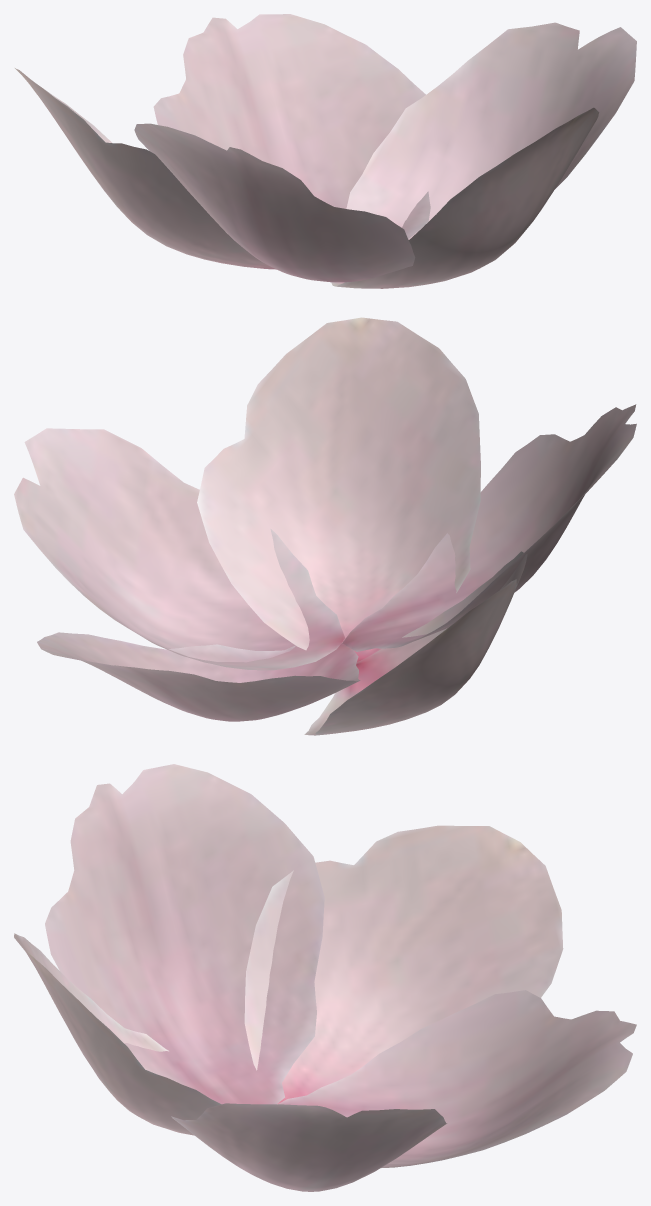
File: cherry.glb
3 renders of one model, top to bottom at view 1: azimuth 30°, elevation 25°; view 2: azimuth 150°, elevation 25°; view 3: azimuth 270°, elevation 25°, orthographic. The views are drawn at different scales.
Visible parts, largest first — view 1: petal01, petal02, petal03; view 2: petal03, petal02, petal01; view 3: petal01, petal03, petal02.
Boxes of the visible parts, x1,y1,x2,y2 form: petal01: (134, 14, 430, 282); petal02: (346, 22, 636, 239); petal03: (15, 68, 599, 288); petal03: (197, 317, 527, 735); petal02: (14, 428, 345, 670); petal01: (37, 404, 636, 721); petal01: (45, 764, 636, 1167); petal03: (14, 825, 563, 1135); petal02: (171, 1103, 447, 1191).
Bounding box in the file's own units: 14.49 × 6.65 × 14.63.
3 materials, 3 textured.
